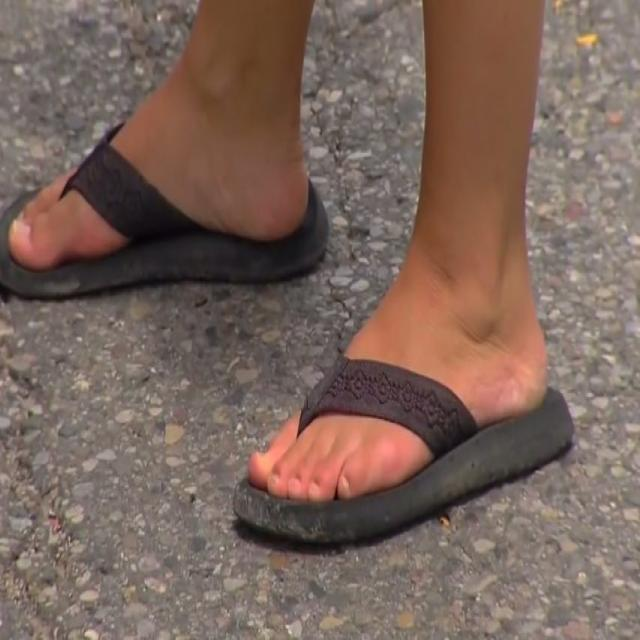Sandals: (0, 60, 584, 566)
